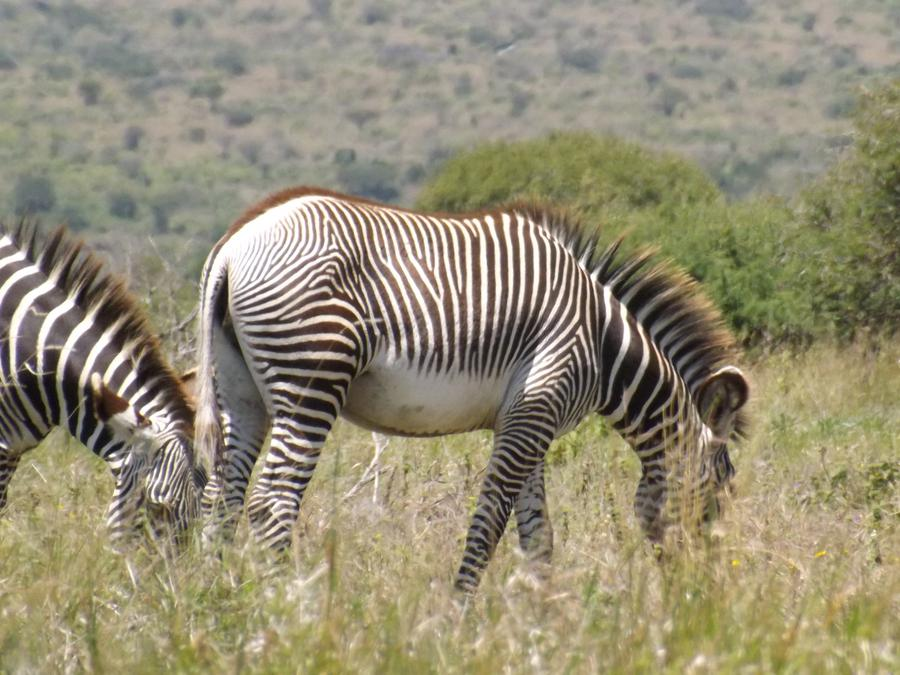zebra_grevys: (187, 170, 576, 433)
